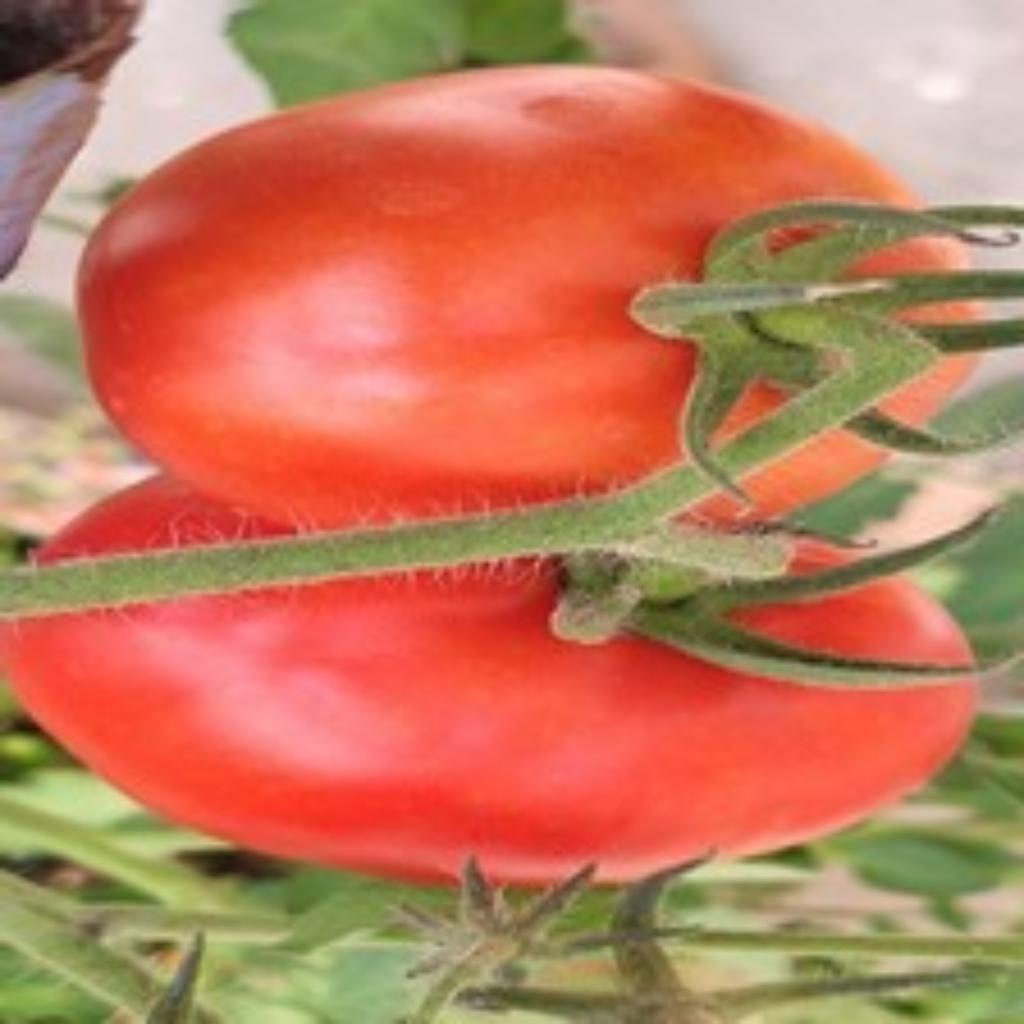tomato: (78, 68, 910, 529), (0, 560, 976, 883)
